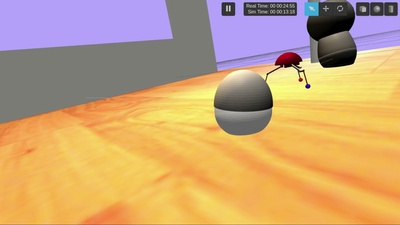mira_robot: (214, 70, 274, 134)
